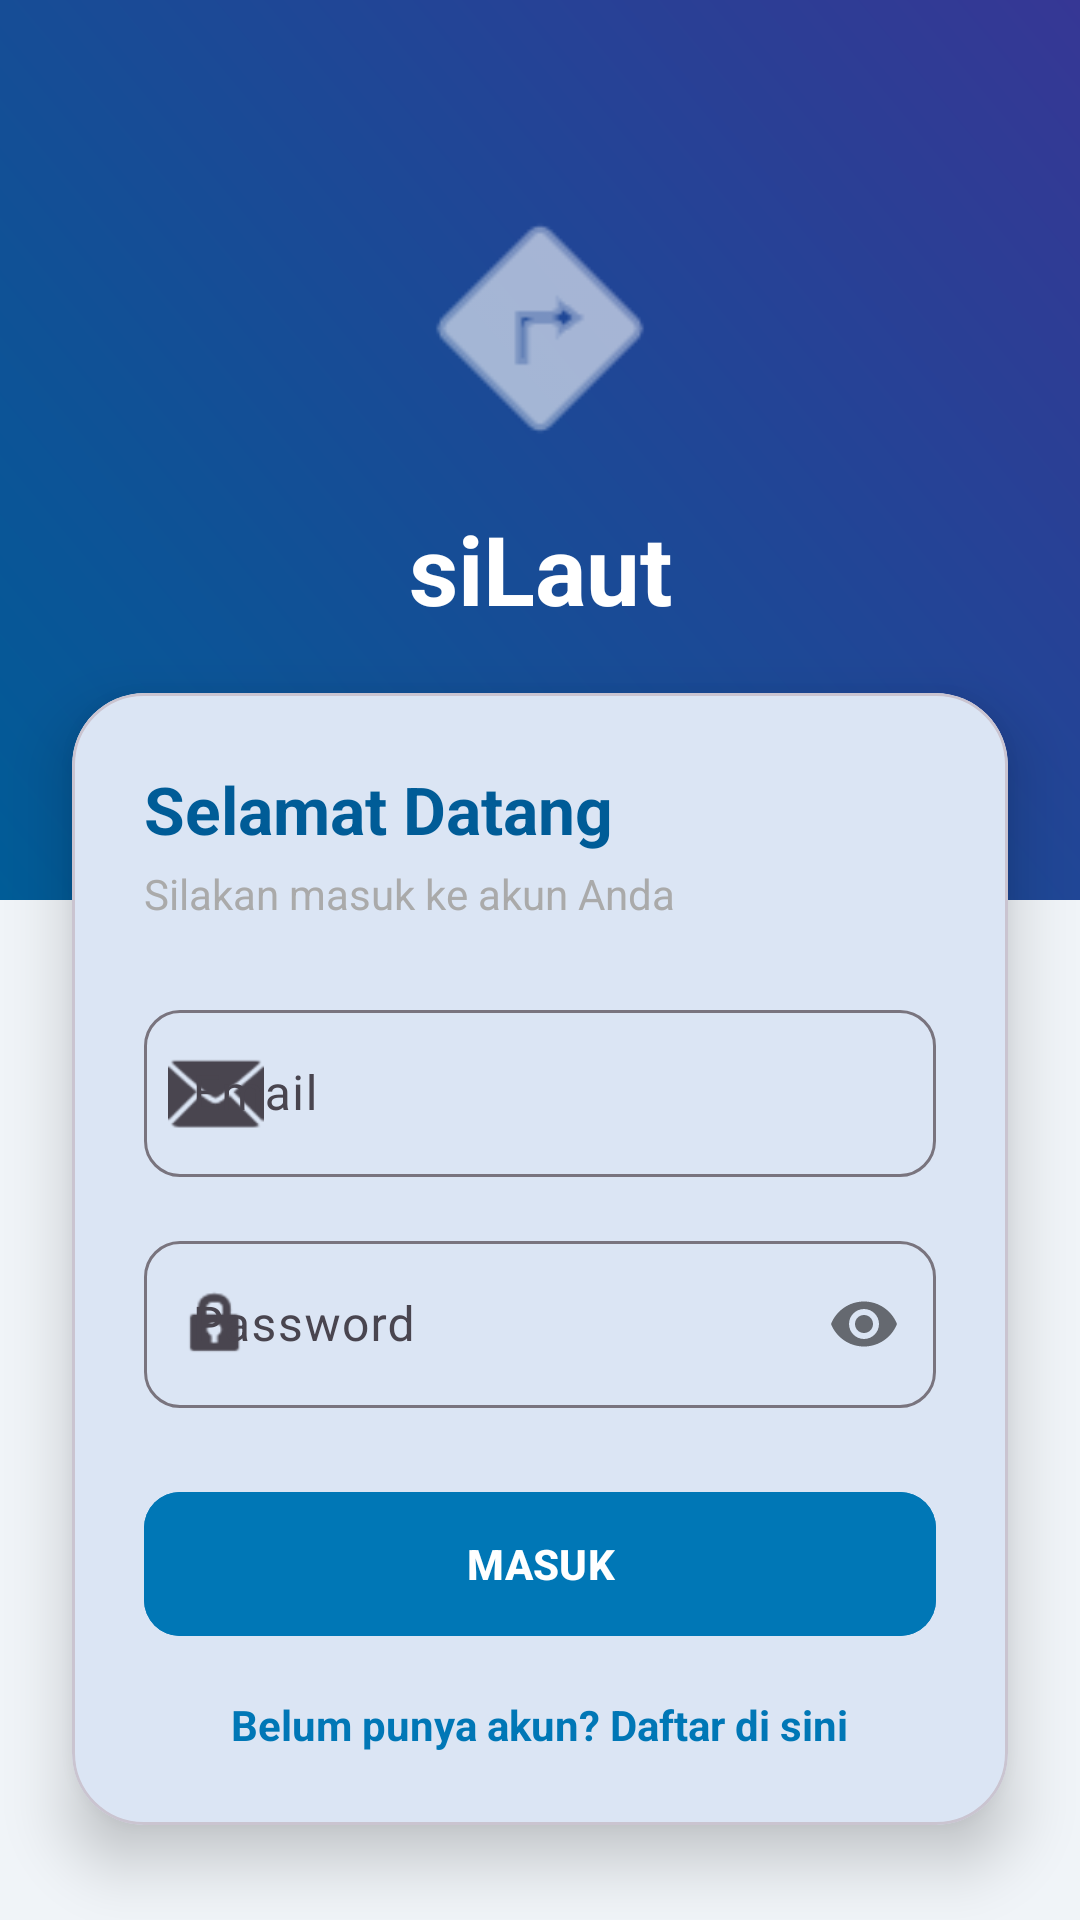

Screen size 1080*1920. Icon name, then its box in pixels as (x1, y1, x2, y2):
directions: (437, 226, 643, 431)
